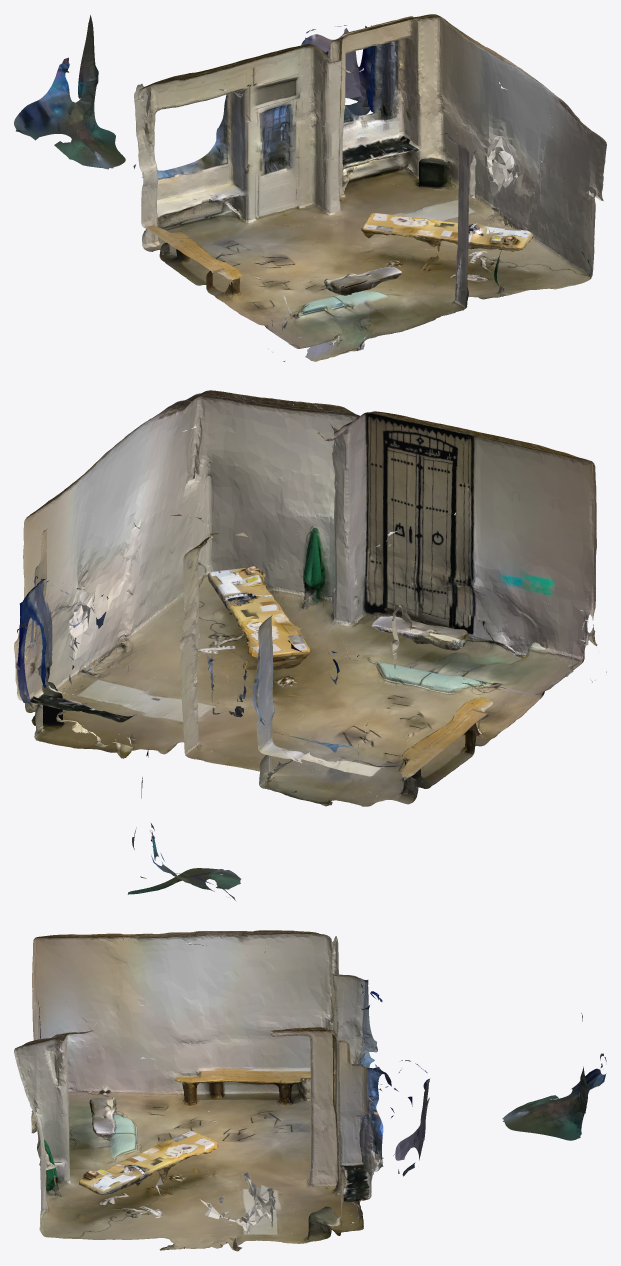
Rendered from interior.glb.
3 views of the same model, one above another, from view 1: azimuth 30°, elevation 25°; view 2: azimuth 150°, elevation 25°; view 3: azimuth 270°, elevation 25° (orthographic). The views are drawn at different scales.
Size of the model in its own units: 7.02 by 3.64 by 10.74.
Materials: 3 (3 with a texture image).
